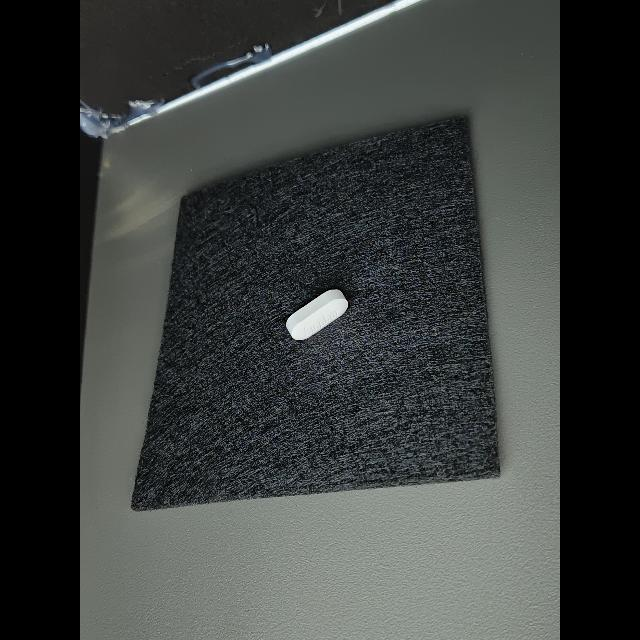Intact Pill: (286, 289, 348, 340)
